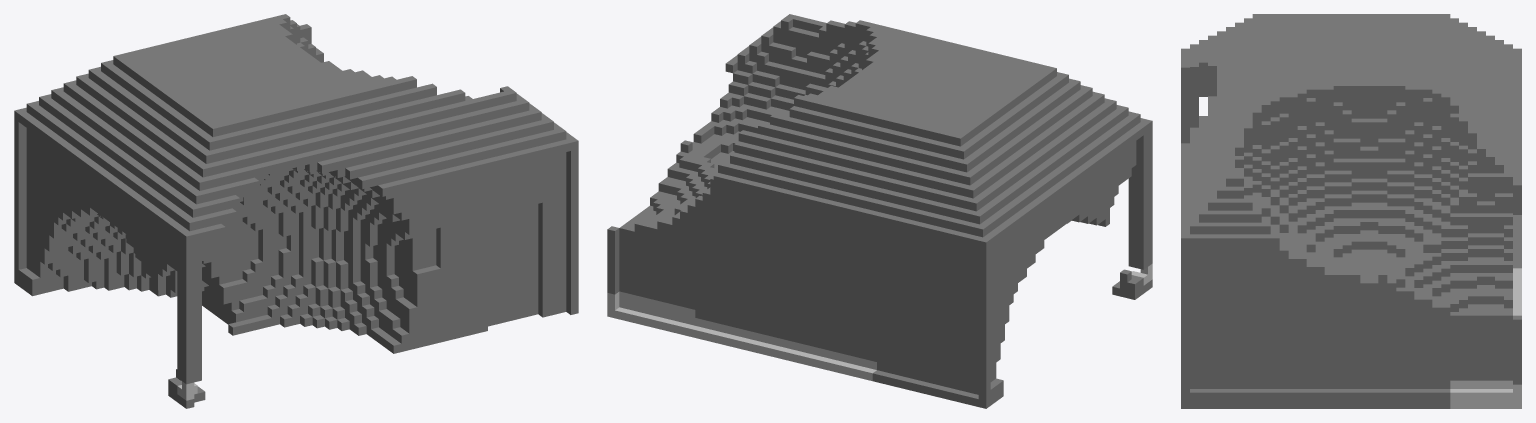
File: church6-25.obj
The picture shows the model from 3 angles, left to right: view 1: azimuth 30°, elevation 25°; view 2: azimuth 150°, elevation 25°; view 3: azimuth 270°, elevation 25°; orthographic projection. The views are drawn at different scales.
Visible parts, largest first — view 1: church6-25; view 2: church6-25; view 3: church6-25.
Part boxes in pixels (box(x1,y1,x2,y2)): church6-25: box(14, 14, 578, 408); church6-25: box(607, 14, 1152, 408); church6-25: box(1181, 14, 1521, 408).
Size of the model in its own units: 50 by 29 by 38.
1 material, 1 textured.
